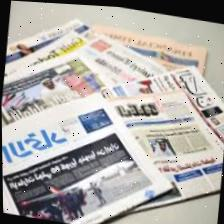paper: (0, 3, 224, 224)
